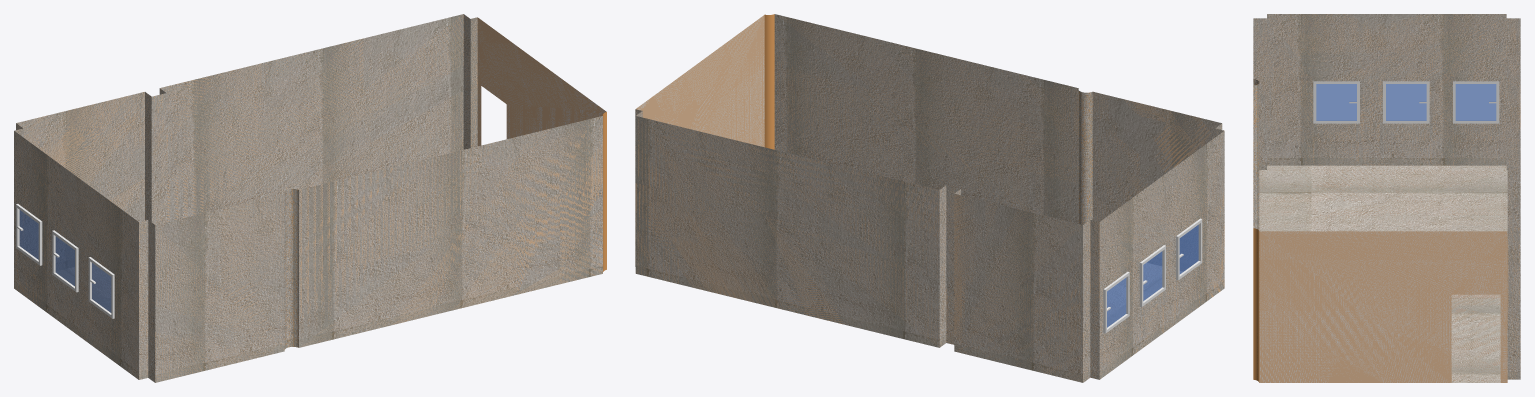
Rendered from LAB005.obj.
The picture shows the model from 3 angles, left to right: view 1: azimuth 30°, elevation 25°; view 2: azimuth 150°, elevation 25°; view 3: azimuth 270°, elevation 25°; orthographic projection. The views are drawn at different scales.
Parts seen in each view (by area): view 1: Mesh10 LAB005 Model, Mesh1 ventana3_1_1 LAB005 Model, Mesh4 ventana3_1_2 LAB005 Model, Mesh7 ventana3_1_3 LAB005 Model; view 2: Mesh10 LAB005 Model, Mesh4 ventana3_1_2 LAB005 Model, Mesh7 ventana3_1_3 LAB005 Model, Mesh1 ventana3_1_1 LAB005 Model; view 3: Mesh10 LAB005 Model, Mesh1 ventana3_1_1 LAB005 Model, Mesh4 ventana3_1_2 LAB005 Model, Mesh7 ventana3_1_3 LAB005 Model.
Part boxes in pixels (left/top/right/bottom): Mesh10 LAB005 Model: left=14, top=14, right=606, bottom=382; Mesh1 ventana3_1_1 LAB005 Model: left=52, top=230, right=78, bottom=292; Mesh4 ventana3_1_2 LAB005 Model: left=16, top=204, right=42, bottom=265; Mesh7 ventana3_1_3 LAB005 Model: left=88, top=257, right=114, bottom=318; Mesh10 LAB005 Model: left=635, top=14, right=1224, bottom=382; Mesh4 ventana3_1_2 LAB005 Model: left=1103, top=271, right=1129, bottom=333; Mesh7 ventana3_1_3 LAB005 Model: left=1176, top=218, right=1202, bottom=280; Mesh1 ventana3_1_1 LAB005 Model: left=1139, top=245, right=1165, bottom=306; Mesh10 LAB005 Model: left=1253, top=14, right=1520, bottom=382; Mesh1 ventana3_1_1 LAB005 Model: left=1383, top=81, right=1429, bottom=123; Mesh4 ventana3_1_2 LAB005 Model: left=1453, top=81, right=1499, bottom=123; Mesh7 ventana3_1_3 LAB005 Model: left=1313, top=81, right=1359, bottom=123.
Size of the model in its own units: 11.12 by 3.6 by 5.75.
Materials: 7 (2 with a texture image).
